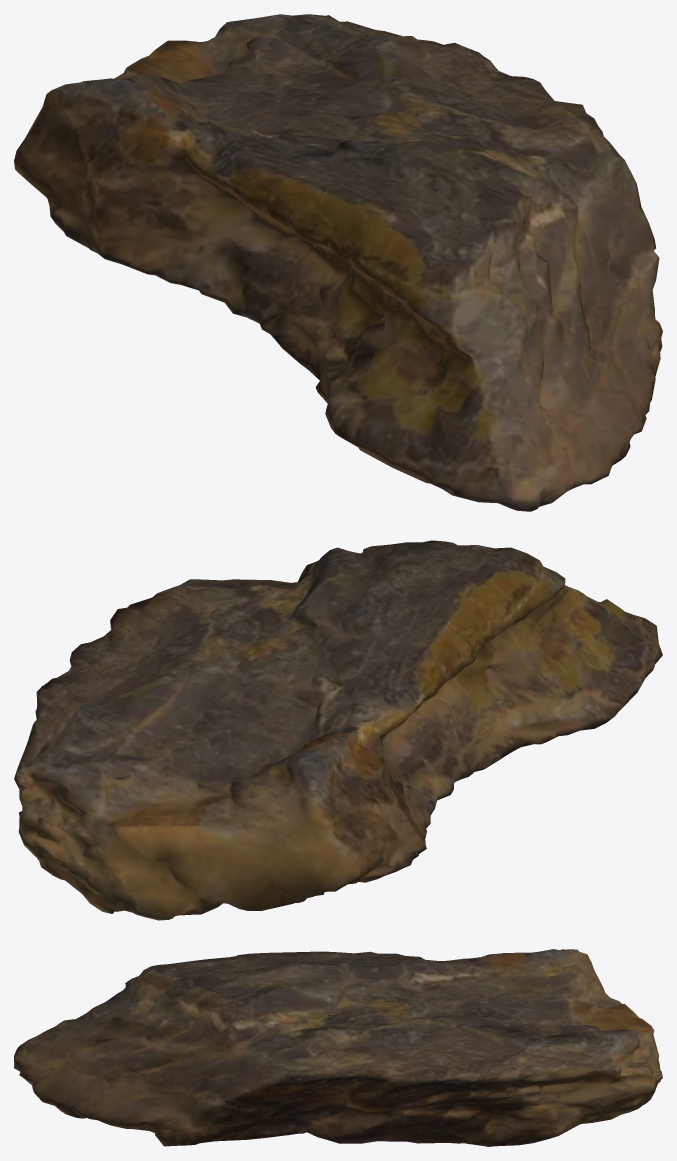
The model's file is rocks.glb.
3 renders of one model, top to bottom at view 1: azimuth 30°, elevation 25°; view 2: azimuth 150°, elevation 25°; view 3: azimuth 270°, elevation 25°, orthographic. The views are drawn at different scales.
Parts seen in each view (by area): view 1: rock_09_hi; view 2: rock_09_hi; view 3: rock_09_hi.
Part boxes in pixels (x1,y1,x2,y2): rock_09_hi: (14, 14, 662, 511); rock_09_hi: (14, 540, 662, 920); rock_09_hi: (14, 949, 662, 1146).
Size of the model in its own units: 0.074 by 0.0328 by 0.1446.
Materials: 1 (1 with a texture image).
